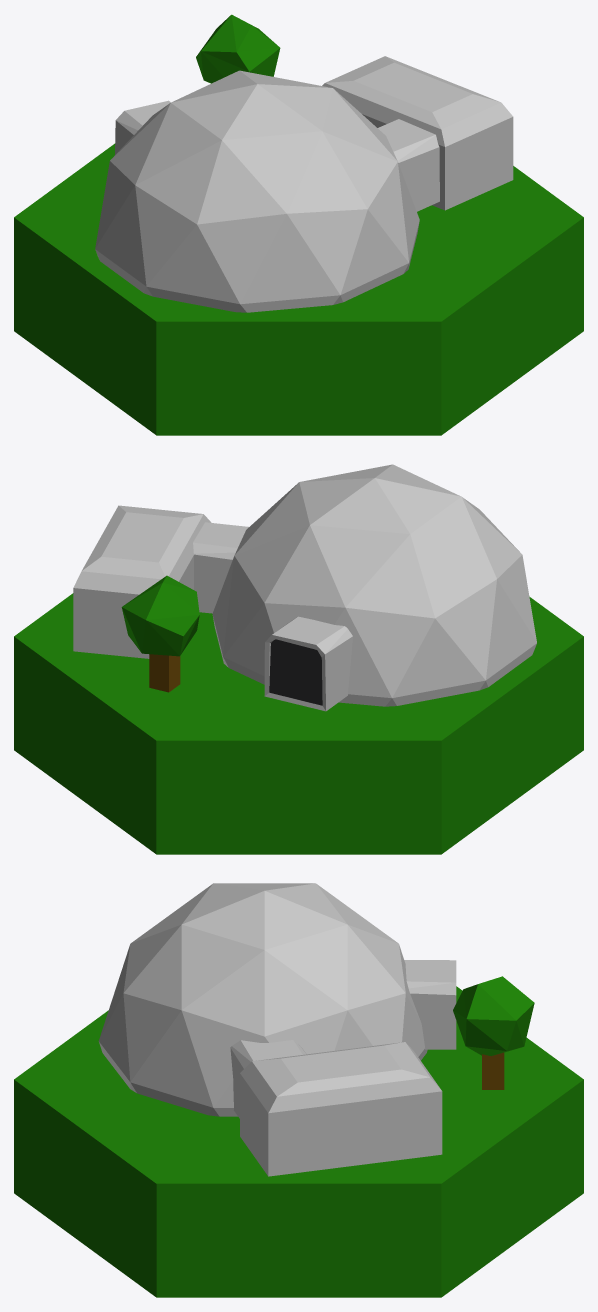
File: Town.fbx
3 renders of one model, top to bottom at view 1: azimuth 30°, elevation 25°; view 2: azimuth 150°, elevation 25°; view 3: azimuth 270°, elevation 25°, orthographic.
Parts seen in each view (by area): view 1: Cylinder; view 2: Cylinder; view 3: Cylinder.
Part boxes in pixels (<box>): Cylinder: <box>14,14,583,435</box>; Cylinder: <box>14,464,583,854</box>; Cylinder: <box>14,883,583,1297</box>.
Size of the model in its own units: 1.73 by 1.16 by 2.
